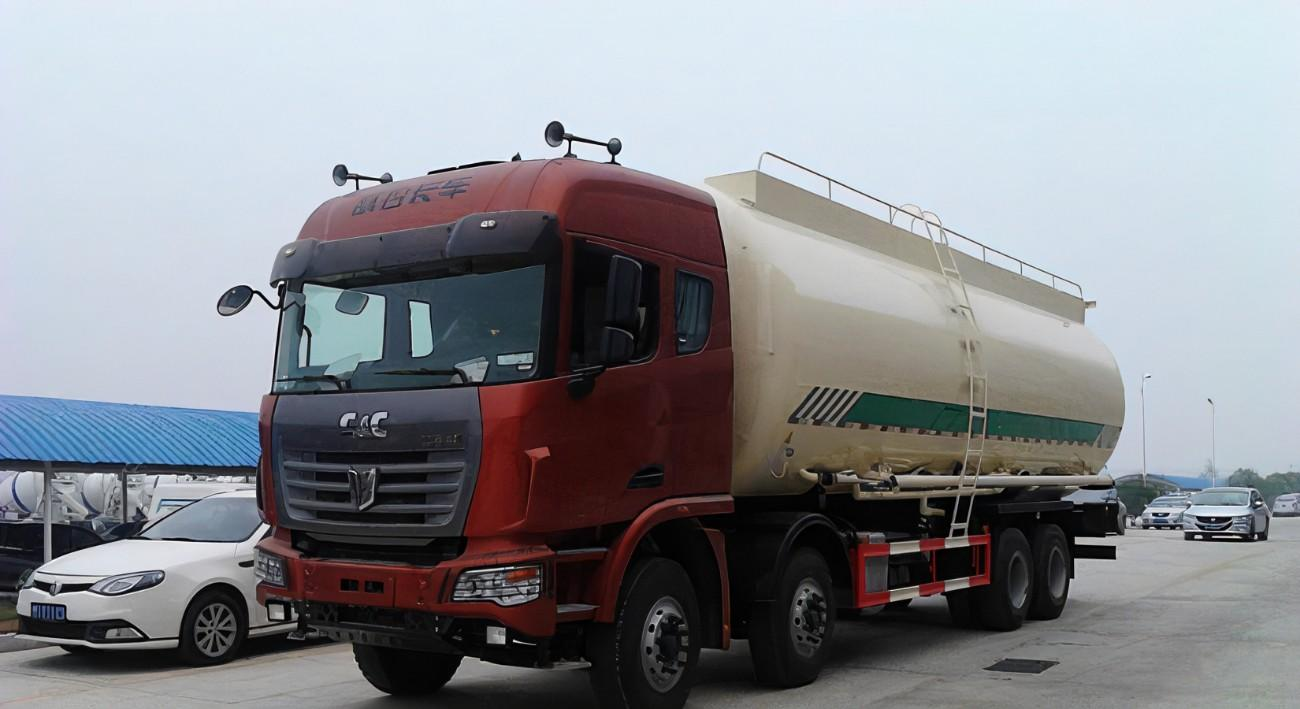truck: (243, 107, 1135, 709)
